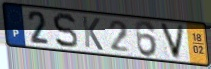2: (27, 10, 51, 47), (108, 19, 131, 54)
6: (134, 19, 159, 59)
K: (81, 15, 105, 52)
S: (51, 12, 80, 50)
V: (158, 22, 187, 61)
